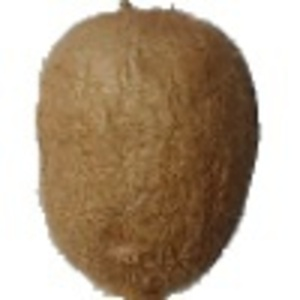kiwi: (33, 1, 260, 300)
